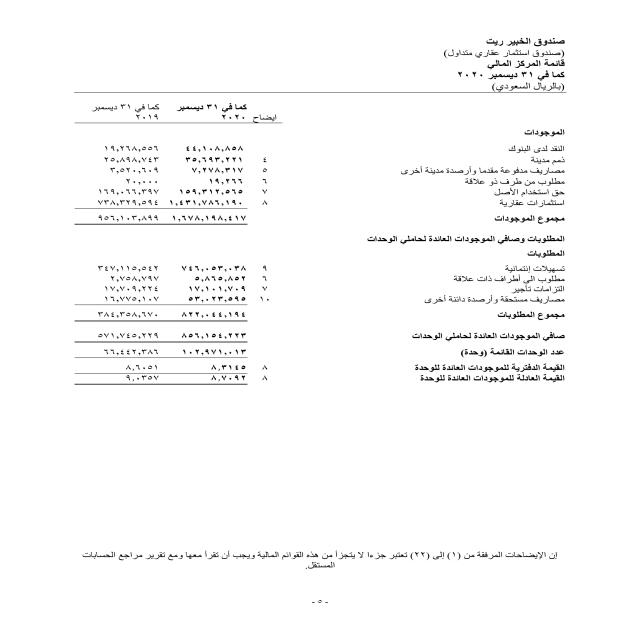financial_sheets: (473, 58, 569, 71)
table: (39, 88, 299, 407)
